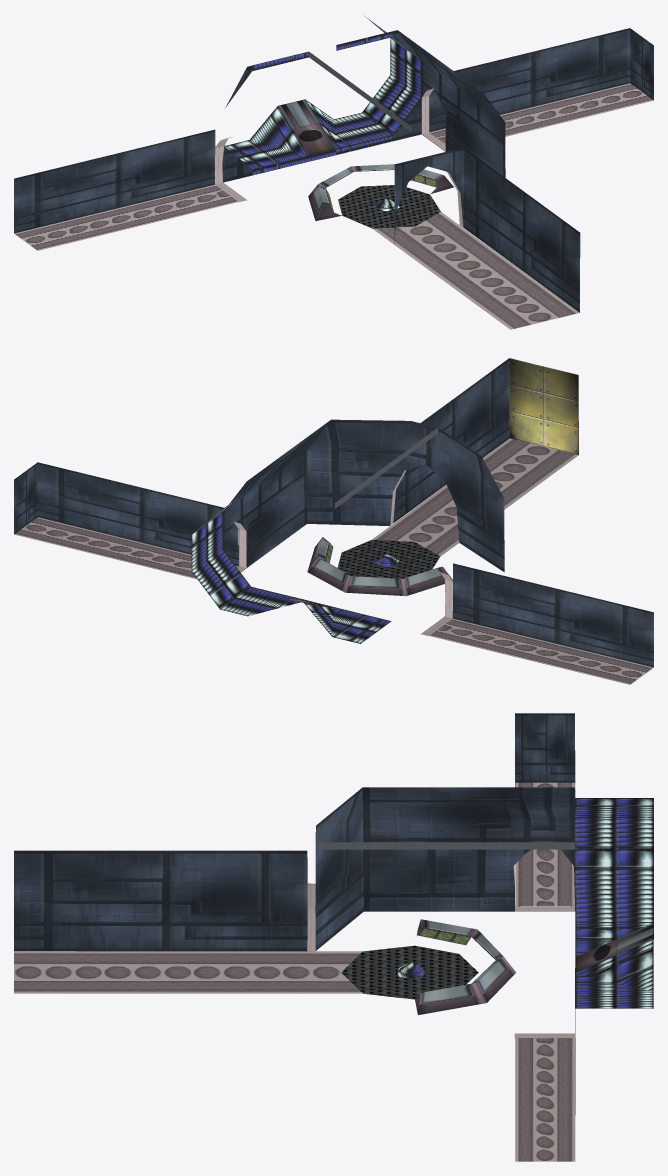
File: bridge.glb
3 renders of one model, top to bottom at view 1: azimuth 30°, elevation 25°; view 2: azimuth 150°, elevation 25°; view 3: azimuth 270°, elevation 25°, orthographic. The views are drawn at different scales.
Parts seen in each view (by area): view 1: bridge; view 2: bridge; view 3: bridge.
Part boxes in pixels (box(x1,y1,x2,y2)): bridge: box(14, 16, 653, 329); bridge: box(14, 358, 653, 684); bridge: box(14, 713, 653, 1161).
Bounding box in the file's own units: 7596 × 1298 × 5424.
13 materials, 13 textured.
